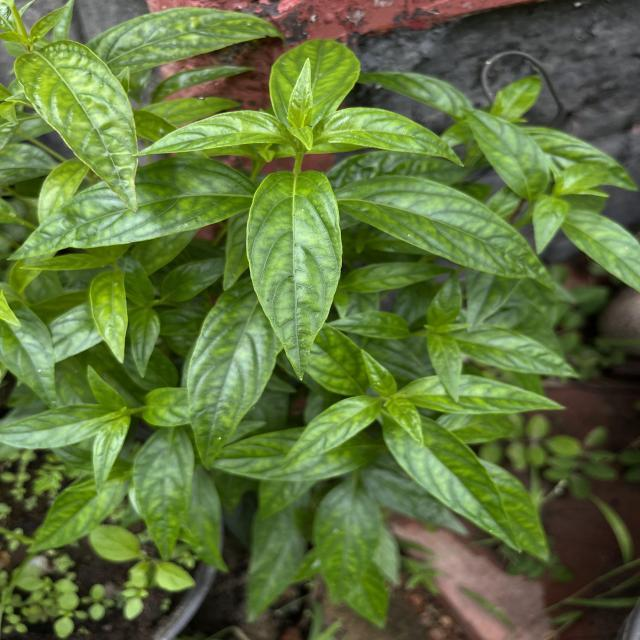Andrographis paniculata: (332, 170, 555, 288), (4, 160, 248, 262), (14, 40, 144, 217), (242, 168, 344, 384), (381, 416, 524, 554), (184, 279, 280, 471), (86, 5, 286, 70), (316, 104, 468, 170), (311, 474, 385, 608), (130, 425, 198, 562), (130, 108, 292, 160), (464, 106, 552, 198), (406, 370, 566, 416), (556, 207, 640, 292), (1, 298, 58, 405), (358, 70, 474, 119), (0, 402, 104, 450), (86, 267, 134, 367), (358, 348, 399, 396)
